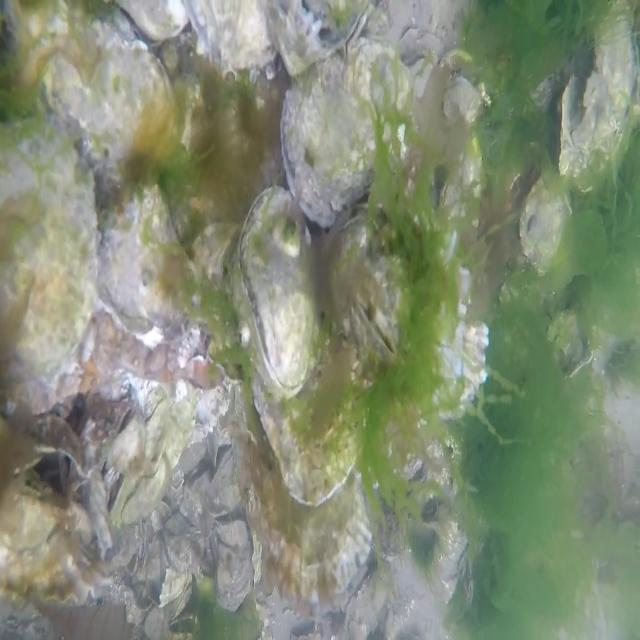Oyster-Closed: (0, 121, 96, 389), (280, 32, 410, 228), (45, 12, 177, 167), (237, 188, 321, 399), (98, 188, 190, 348), (264, 0, 372, 76), (519, 180, 571, 274), (441, 148, 479, 210)
Oyster-Indeterminate: (325, 213, 490, 427), (241, 396, 372, 612), (254, 336, 370, 506), (559, 0, 640, 194), (110, 396, 196, 522), (0, 528, 114, 606), (183, 0, 275, 73), (0, 468, 78, 550), (342, 562, 391, 640), (215, 520, 252, 612), (439, 46, 480, 125), (372, 485, 408, 565), (205, 446, 246, 516)
Oyster-Open: (17, 409, 92, 503), (402, 47, 435, 103), (420, 498, 440, 520)
